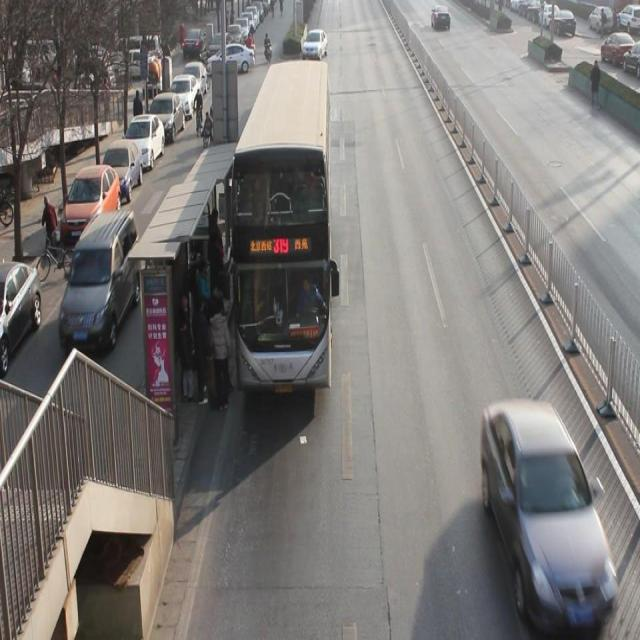car: (480, 406, 615, 609), (305, 28, 329, 63)
van: (232, 62, 332, 390)
